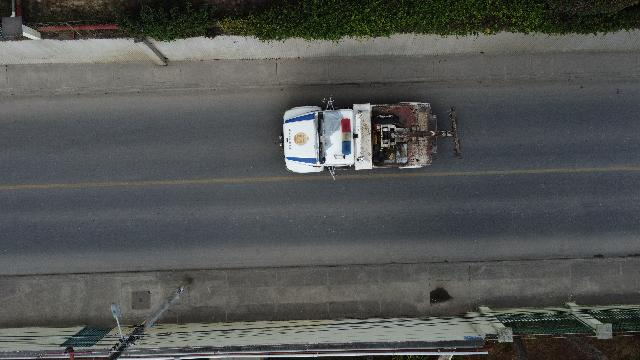Vehiculo: (282, 99, 462, 175)
